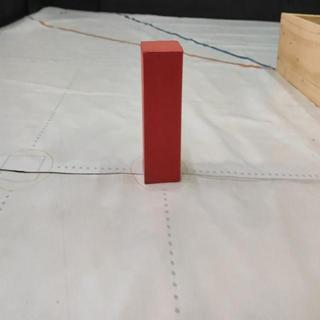redbox: (139, 40, 184, 184)
